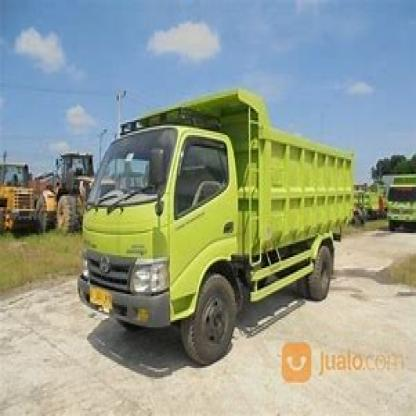dump_truck: (69, 83, 337, 372)
